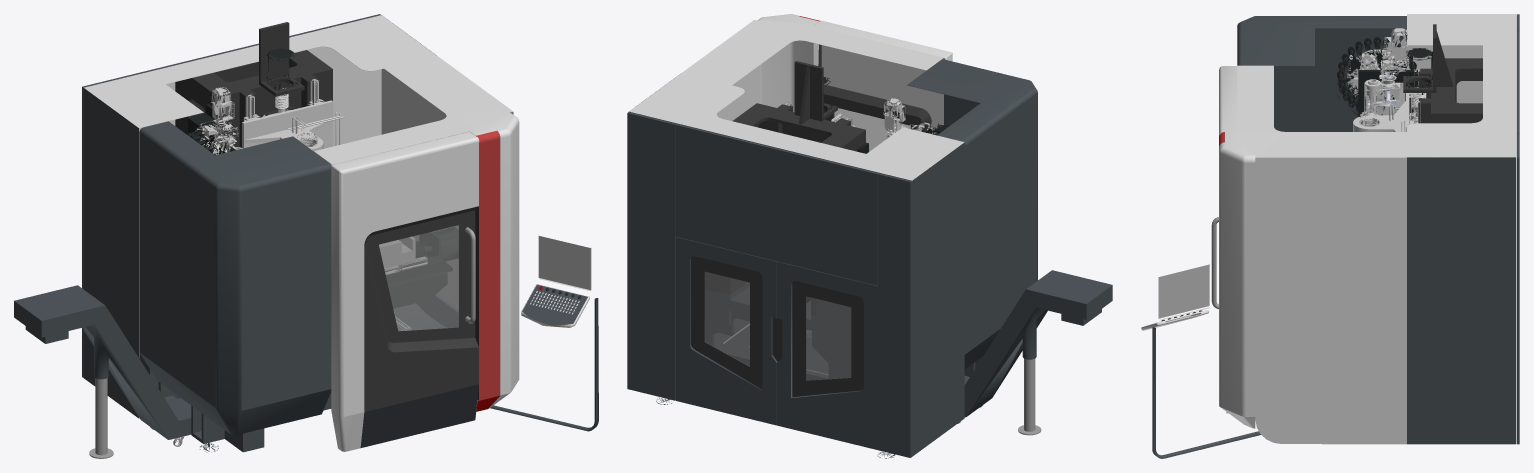
The model's file is cnc-01-1.glb.
3 renders of one model, left to right at view 1: azimuth 30°, elevation 25°; view 2: azimuth 150°, elevation 25°; view 3: azimuth 270°, elevation 25°, orthographic. The views are drawn at different scales.
Parts seen in each view (by area): view 1: painel_lateral_esq__1, carenagem_externa__1, porta_frontal__6, painel_traseiro__7, painel_lateral_inf__1, cobertura_cabecote__1, porta_frontal__1, porta_frontal__4, moldura_porta__1, porta_frontal__5, esteira_cavacos__2, porta_frontal__2 (+12 smaller); view 2: painel_traseiro__3, painel_lateral_esq__1, carenagem_externa__1, painel_traseiro__7, painel_traseiro__5, painel_traseiro__4, painel_traseiro__2, painel_lateral_inf__1, painel_traseiro__1, cobertura_cabecote__1, carenagem_inferior__1, porta_frontal__6 (+6 smaller); view 3: carenagem_externa__1, painel_traseiro__6, painel_lateral_esq__1, cobertura_cabecote__1, painel_controle__1, porta_frontal__6, painel_traseiro__5, cabecote__3, carenagem_frontal_dir__2, motor_magazine__4, suporte_magazine__27, magazine__4 (+8 smaller).
Part boxes in pixels (<box>): painel_lateral_esq__1: <box>139,121,331,434</box>; carenagem_externa__1: <box>84,15,519,418</box>; porta_frontal__6: <box>331,131,479,451</box>; painel_traseiro__7: <box>83,88,138,418</box>; painel_lateral_inf__1: <box>14,285,191,439</box>; cobertura_cabecote__1: <box>175,22,332,147</box>; porta_frontal__1: <box>364,244,478,411</box>; porta_frontal__4: <box>379,225,458,331</box>; moldura_porta__1: <box>476,131,500,400</box>; porta_frontal__5: <box>366,210,474,342</box>; esteira_cavacos__2: <box>360,384,478,447</box>; porta_frontal__2: <box>352,192,478,449</box>; painel_traseiro__3: <box>675,124,878,449</box>; painel_lateral_esq__1: <box>907,59,1037,369</box>; carenagem_externa__1: <box>629,14,964,180</box>; painel_traseiro__7: <box>629,111,964,456</box>; painel_traseiro__5: <box>627,112,675,400</box>; painel_traseiro__4: <box>878,173,911,457</box>; painel_traseiro__2: <box>691,256,863,397</box>; painel_lateral_inf__1: <box>964,270,1112,417</box>; painel_traseiro__1: <box>704,271,851,380</box>; cobertura_cabecote__1: <box>705,61,865,315</box>; carenagem_inferior__1: <box>705,282,982,380</box>; porta_frontal__6: <box>813,20,952,127</box>; carenagem_externa__1: <box>1219,14,1515,444</box>; painel_traseiro__6: <box>1407,157,1515,444</box>; painel_lateral_esq__1: <box>1237,16,1406,131</box>; cobertura_cabecote__1: <box>1403,24,1482,123</box>; painel_controle__1: <box>1159,264,1209,318</box>; porta_frontal__6: <box>1219,66,1237,135</box>; painel_traseiro__5: <box>1516,133,1519,444</box>; cabecote__3: <box>1353,93,1409,131</box>; carenagem_frontal_dir__2: <box>1152,327,1260,458</box>; motor_magazine__4: <box>1380,28,1407,79</box>; suporte_magazine__27: <box>1358,70,1419,120</box>; magazine__4: <box>1337,36,1416,109</box>.
Bounding box in the file's own units: 4.31 × 3.21 × 3.12.
